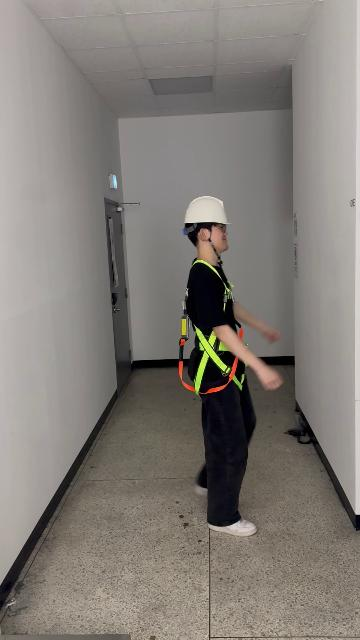helmet_worn: (182, 195, 232, 226)
shoe_not_worn: (207, 517, 258, 537), (194, 476, 207, 496)
vest_worn: (179, 263, 244, 395)
